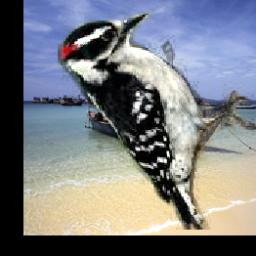Woodpecker: (58, 13, 256, 231)
